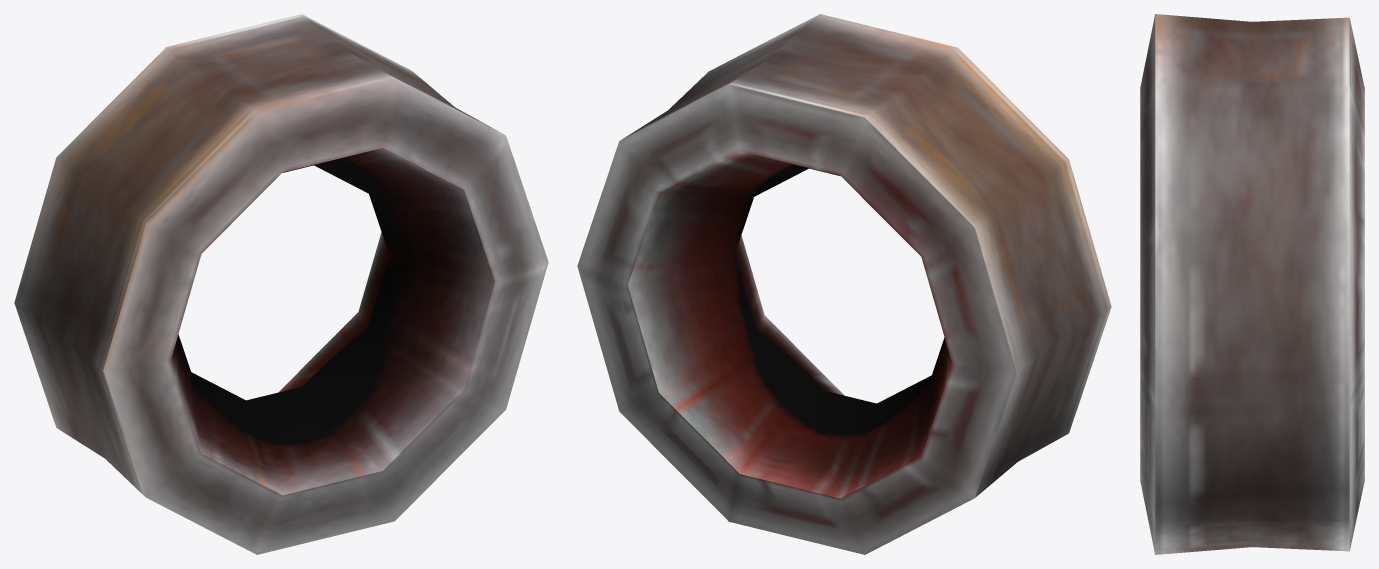
The model's file is shackle.gltf.
3 renders of one model, left to right at view 1: azimuth 30°, elevation 25°; view 2: azimuth 150°, elevation 25°; view 3: azimuth 270°, elevation 25°, orthographic. The views are drawn at different scales.
Visible parts, largest first — view 1: shackle.R.girl; view 2: shackle.R.girl; view 3: shackle.R.girl.
Boxes of the visible parts, x1=… form: shackle.R.girl: x1=14, y1=14, x2=548, y2=554; shackle.R.girl: x1=577, y1=14, x2=1111, y2=554; shackle.R.girl: x1=1140, y1=14, x2=1364, y2=554.
Bounding box in the file's own units: 0.1418 × 0.1348 × 0.0583.
1 material, 1 textured.
